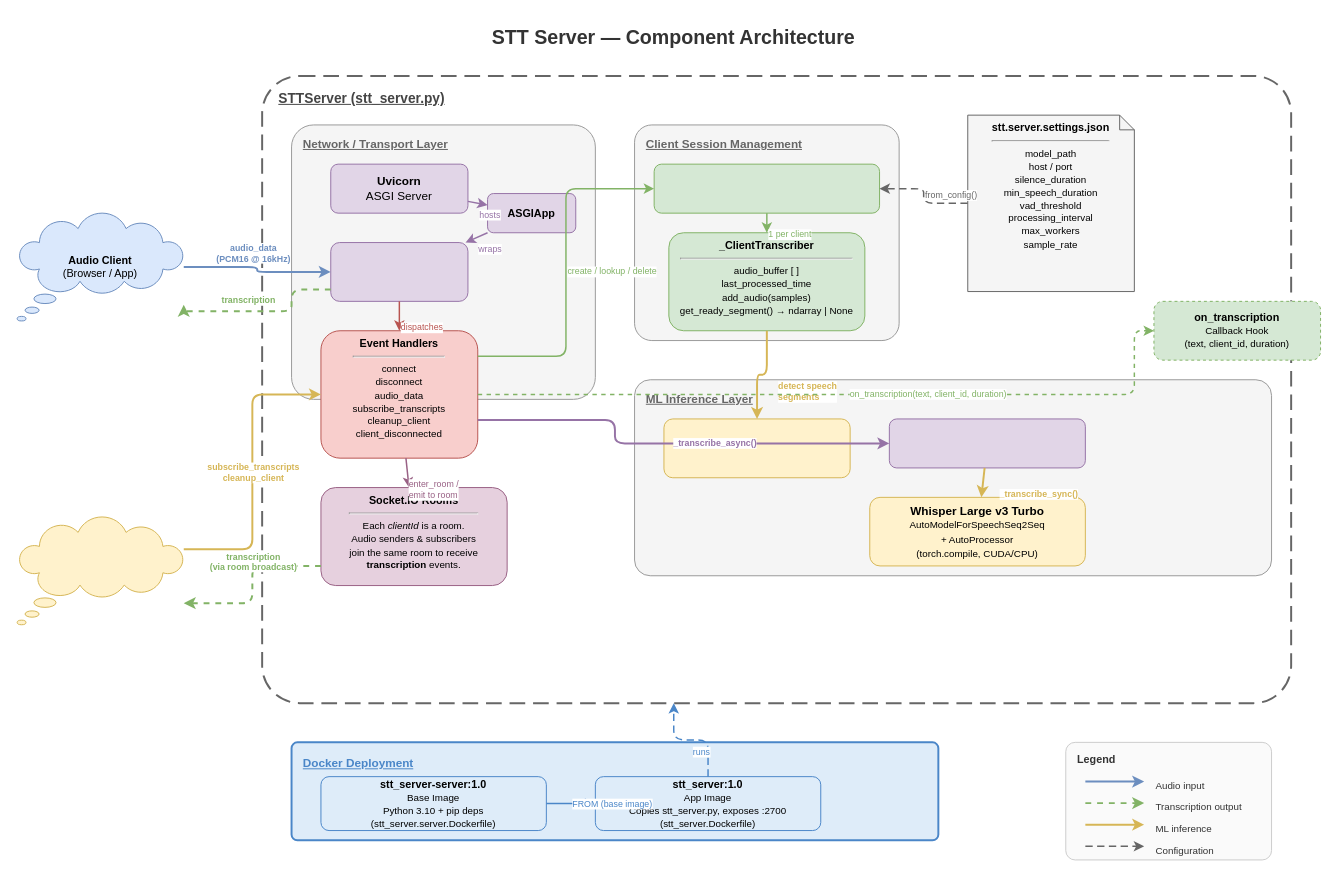
This 1338x877 diagram has some shape labels left out. The centre of each missing label's shape, as x and y in pixels:
"client_transcribers Dict[client_id, _ClientTranscriber]" belongs at (766,188).
"Monitoring Client (LLM Assistant / Agent Server)" belongs at (100,570).
"Silero VAD Voice Activity Detection get_speech_timestamps()" belongs at (756,448).
"Socket.IO AsyncServer (python-socketio)" belongs at (399,271).
"ThreadPoolExecutor max_workers (async → sync bridge)" belongs at (986,443).
